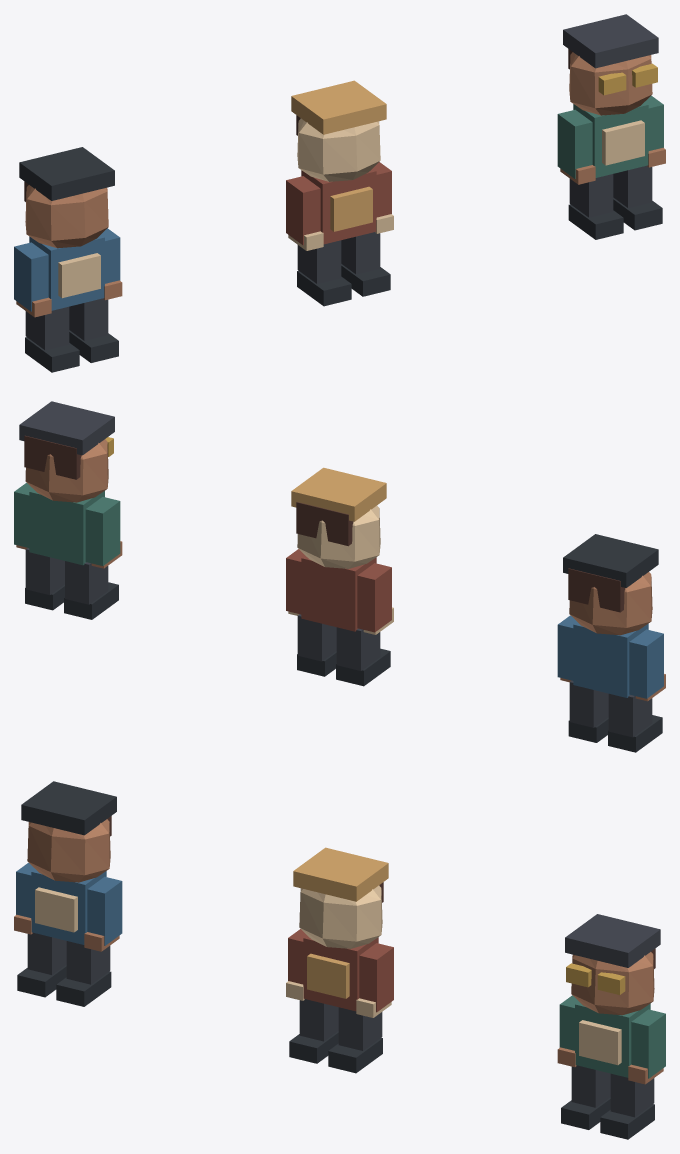
Rendered from fon-navia-people-model.obj.
3 renders of one model, top to bottom at view 1: azimuth 30°, elevation 25°; view 2: azimuth 150°, elevation 25°; view 3: azimuth 330°, elevation 25°, orthographic.
Parts seen in each view (by area): view 1: PhotoTerrace; view 2: PhotoTerrace; view 3: PhotoTerrace.
Part boxes in pixels (left/top/right/bottom): PhotoTerrace: left=14, top=14, right=665, bottom=372; PhotoTerrace: left=14, top=401, right=665, bottom=752; PhotoTerrace: left=14, top=781, right=665, bottom=1139.
Size of the model in its own units: 3.4 by 0.948 by 0.356.
